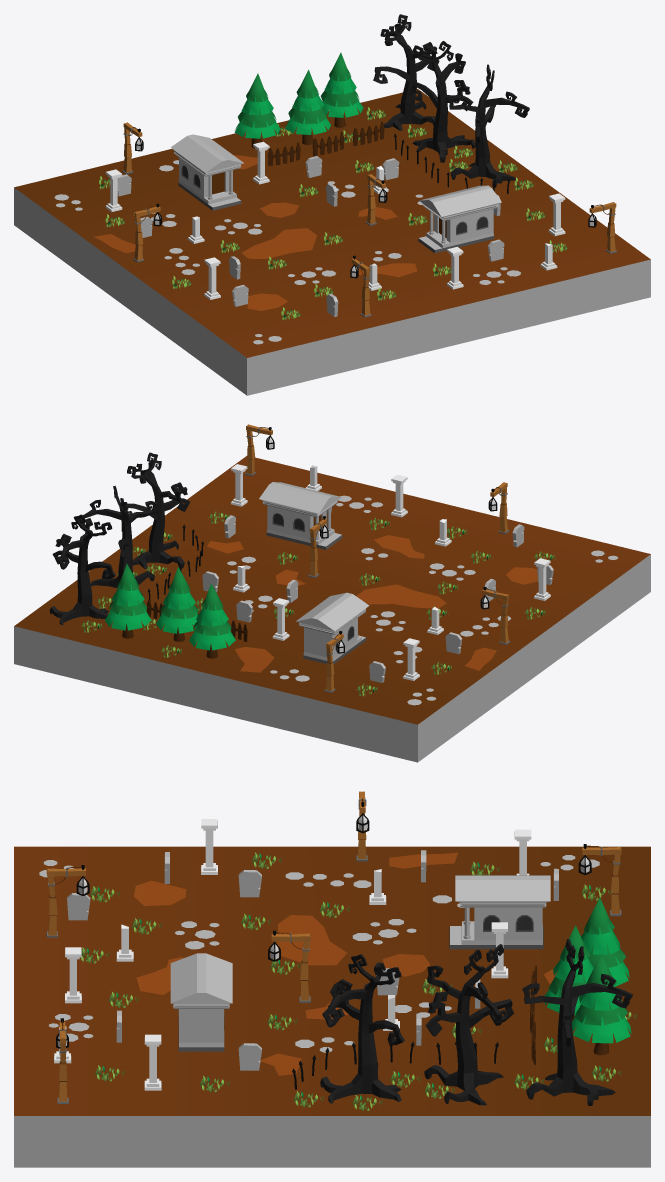
Rendered from ground.fbx.
3 views of the same model, one above another, from view 1: azimuth 30°, elevation 25°; view 2: azimuth 150°, elevation 25°; view 3: azimuth 270°, elevation 25° (orthographic). The views are drawn at different scales.
Visible parts, largest first — view 1: ground, structures, trees, pineleaves, grass, lamppost, tombstones; view 2: ground, structures, trees, pineleaves, lamppost, grass, tombstones; view 3: ground, structures, trees, pineleaves, grass, lamppost, tombstones.
Boxes of the visible parts, <box> form: ground: <box>14,89,650,395</box>; structures: <box>105,121,565,299</box>; trees: <box>373,14,529,187</box>; pineleaves: <box>234,52,363,138</box>; grass: <box>99,107,567,320</box>; lamppost: <box>122,122,617,317</box>; tombstones: <box>117,156,504,316</box>; ground: <box>14,456,650,762</box>; structures: <box>143,464,550,680</box>; trees: <box>49,452,190,625</box>; pineleaves: <box>105,563,235,650</box>; lamppost: <box>245,424,510,692</box>; grass: <box>81,511,555,696</box>; tombstones: <box>202,507,553,682</box>; ground: <box>14,846,650,1167</box>; structures: <box>54,819,550,1090</box>; trees: <box>320,939,632,1105</box>; pineleaves: <box>544,897,631,1043</box>; grass: <box>80,852,637,1110</box>; lamppost: <box>46,791,621,1103</box>; tombstones: <box>67,850,558,1070</box>.
Size of what is drawn, in the model's own units: 752 by 251 by 752.
